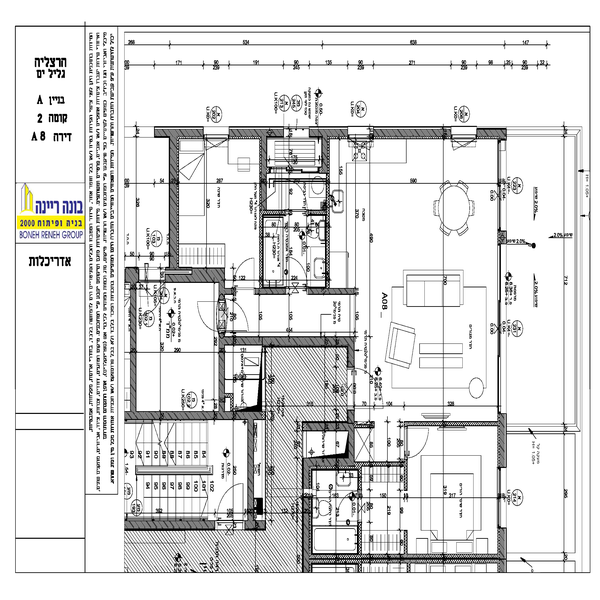door: (219, 294, 253, 337), (405, 426, 435, 464), (216, 481, 242, 524), (195, 296, 220, 334), (236, 254, 258, 288)
room: (321, 126, 508, 301), (167, 126, 267, 297), (127, 416, 267, 534), (401, 424, 510, 559), (217, 336, 354, 432), (257, 120, 332, 212), (262, 206, 333, 294), (304, 463, 362, 563)
wall: (311, 550, 506, 564), (219, 336, 357, 347), (125, 412, 261, 423), (170, 130, 180, 271), (128, 269, 137, 404), (247, 417, 257, 527), (304, 458, 312, 575), (170, 266, 227, 282), (126, 522, 212, 532), (371, 129, 442, 141), (310, 124, 347, 140), (258, 209, 265, 291), (231, 129, 282, 140), (259, 139, 267, 209), (497, 414, 507, 467), (325, 217, 332, 290), (307, 286, 357, 295), (321, 137, 333, 174), (483, 128, 509, 139), (254, 288, 284, 295)
window: (496, 245, 508, 409), (497, 141, 507, 229), (497, 469, 509, 521), (451, 125, 478, 145), (283, 124, 308, 142), (348, 126, 372, 143), (207, 126, 227, 139)
